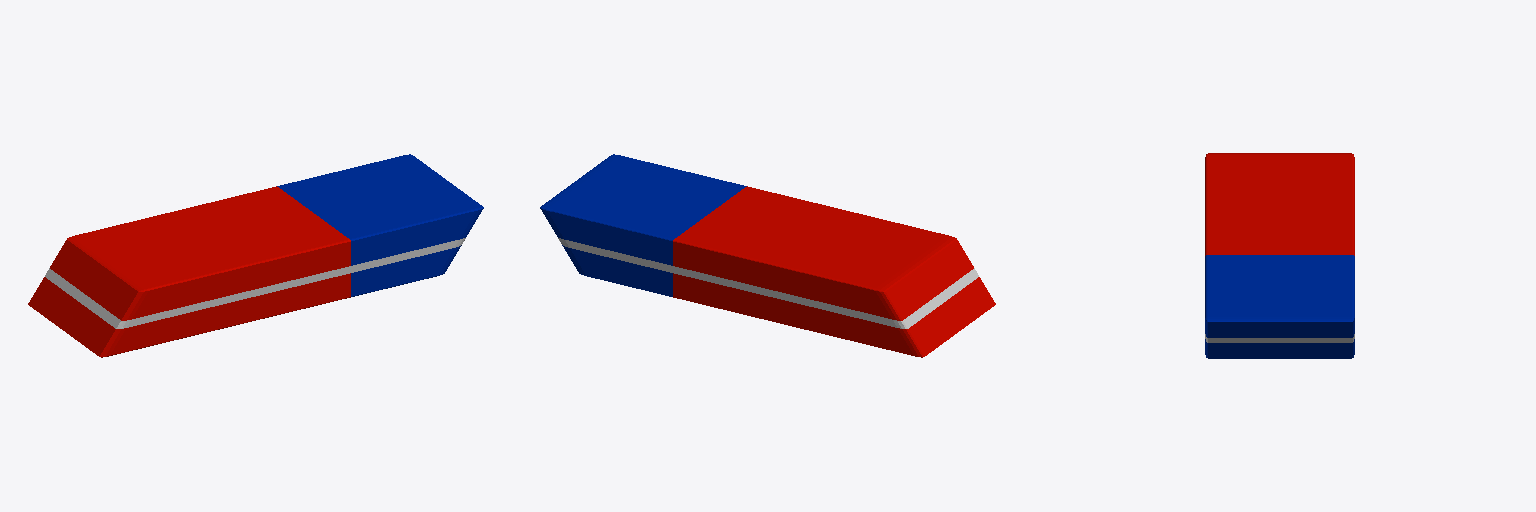
The model's file is Simple_Rubber.obj.
3 views of the same model, side by side, from view 1: azimuth 30°, elevation 25°; view 2: azimuth 150°, elevation 25°; view 3: azimuth 270°, elevation 25° (orthographic).
Visible parts, largest first — view 1: Rubber_Cube; view 2: Rubber_Cube; view 3: Rubber_Cube.
Boxes of the visible parts, <box> form: Rubber_Cube: <box>28,154,483,357</box>; Rubber_Cube: <box>540,154,995,357</box>; Rubber_Cube: <box>1205,153,1354,358</box>.
Size of the model in its own units: 2.69 by 0.3862 by 0.9021.